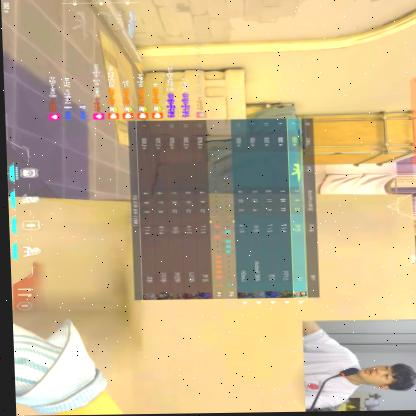streamer: (299, 320, 415, 410)
